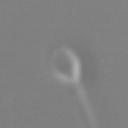normal: (74, 79, 107, 128)
